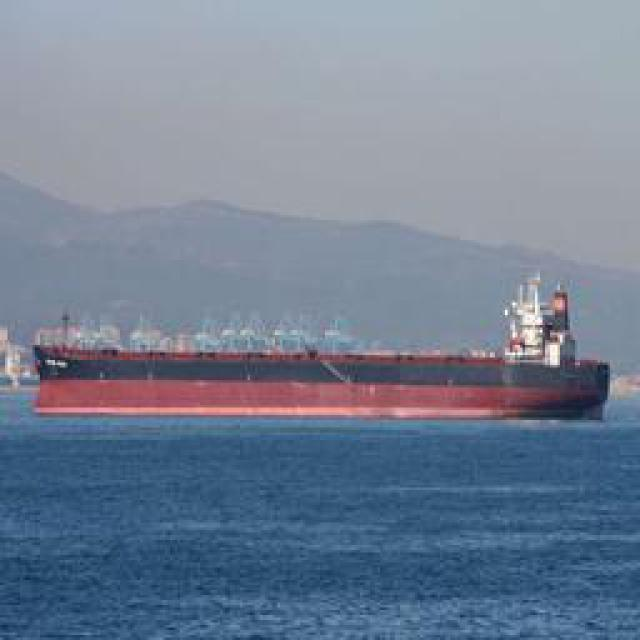Ship: (37, 303, 610, 421)
